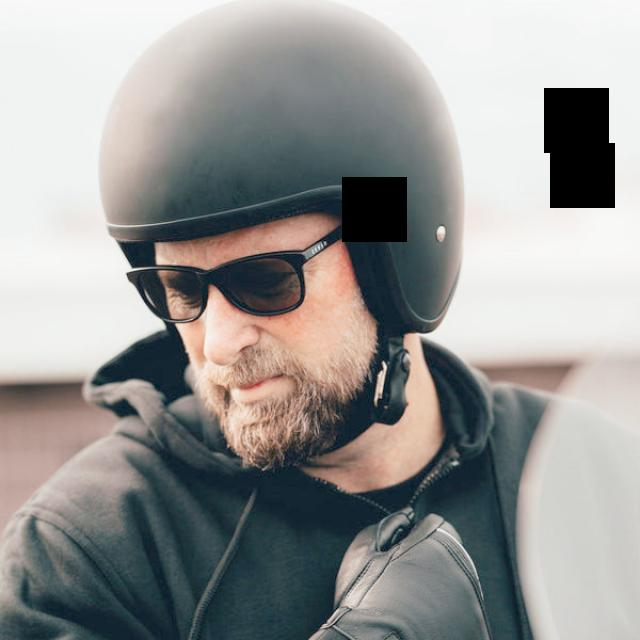Helmet: (100, 0, 464, 334)
